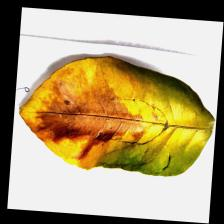canker: (32, 73, 178, 173)
